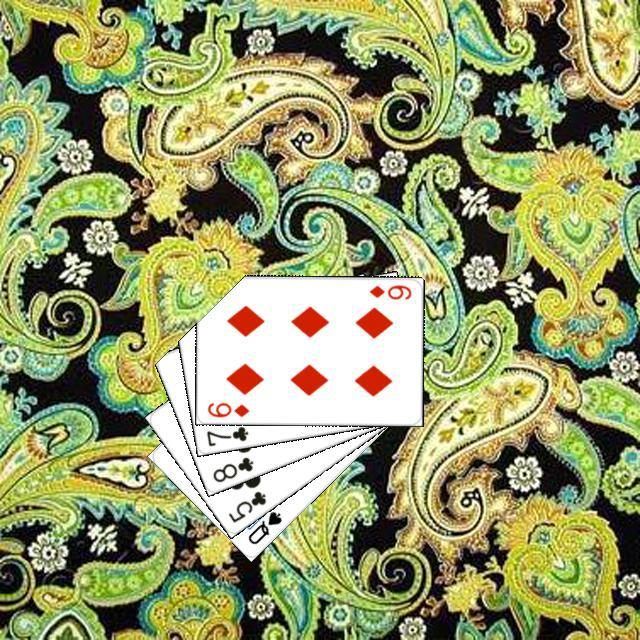5c: (223, 486, 268, 524)
6d: (203, 398, 251, 419), (365, 280, 413, 301)
7c: (201, 421, 250, 448)
8c: (208, 452, 255, 484)
Qs: (243, 506, 284, 546)
